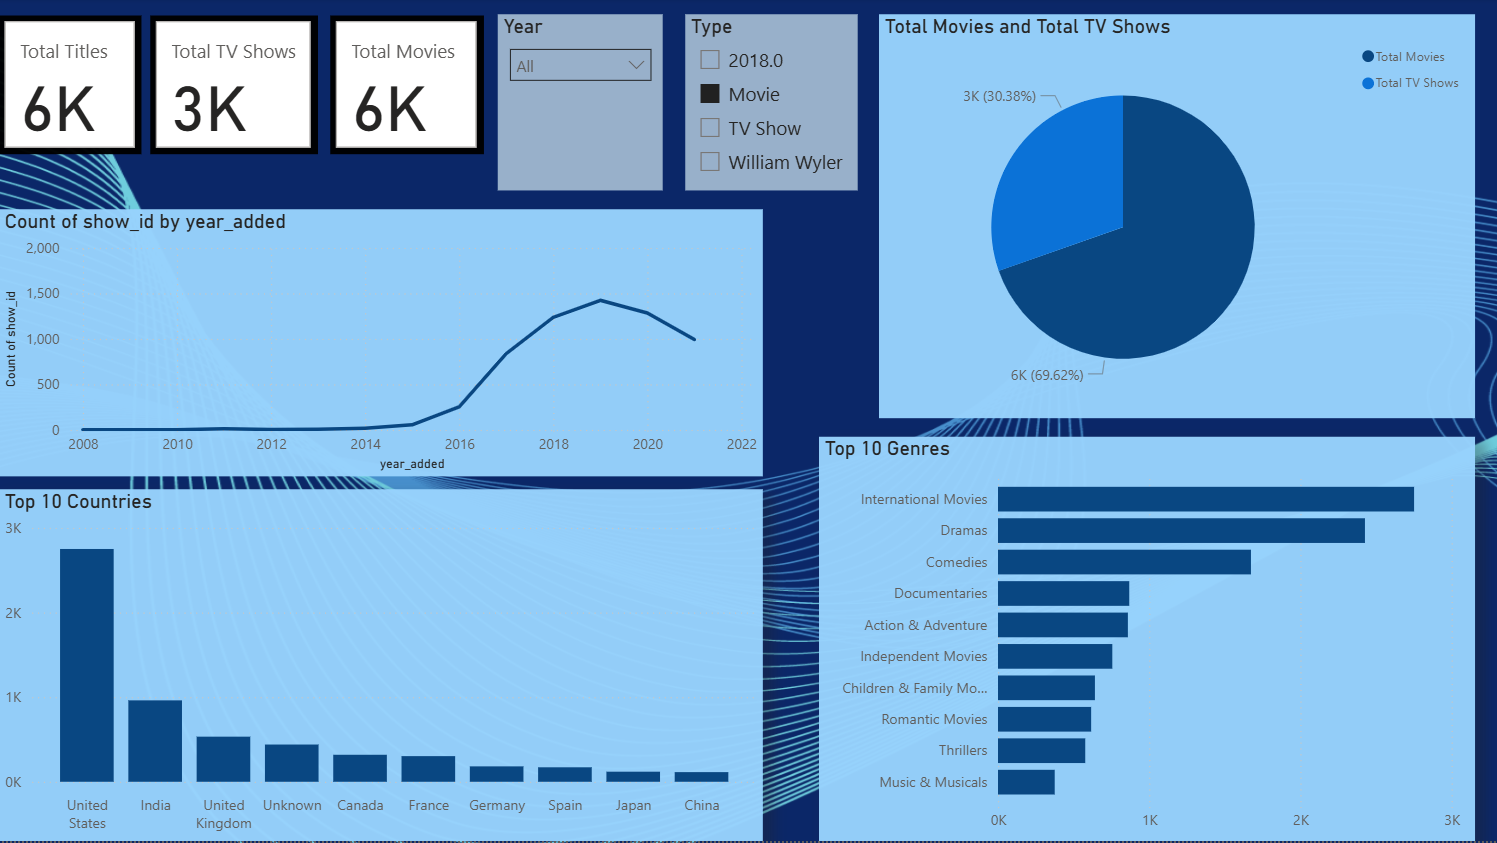

This screenshot's page, from the dashboard's own definition file:
{"tool":"powerbi","page":{"name":"Page 1","canvas":[1280,720],"ordinal":0},"visuals":[{"type":"cardVisual","fields":{"Data":["netflix_cleaned.Total Titles"]},"box":[0,14.9,121.6,118.4],"z":0},{"type":"cardVisual","fields":{"Data":["netflix_cleaned.Total TV Shows"]},"box":[129.1,14.9,143,118.4],"z":1000},{"type":"cardVisual","fields":{"Data":["netflix_cleaned.Total Movies"]},"box":[282.5,15.3,130.8,118.3],"z":2000},{"type":"pieChart","fields":{"Y":["netflix_cleaned.Total Movies","netflix_cleaned.Total TV Shows"]},"box":[751.2,13.9,509,344.6],"z":3000},{"type":"lineChart","fields":{"Category":["netflix_cleaned.year_added"],"Y":["CountNonNull(netflix_cleaned.show_id)"]},"box":[0,180.3,651.9,228.3],"z":4000},{"type":"clusteredBarChart","title":"Top 10 Genres","fields":{"Y":["CountNonNull(netflix_genre_exploded.show_id)"],"Category":["netflix_genre_exploded.genre"]},"box":[699.9,374.5,560.2,345.7],"z":5000},{"type":"clusteredColumnChart","title":"Top 10 Countries","fields":{"Category":["netflix_country_exploded.country_single"],"Y":["CountNonNull(netflix_country_exploded.show_id)"]},"box":[0,419.3,651.9,300.9],"z":6000},{"type":"slicer","title":"Year","fields":{"Values":["netflix_cleaned.year_added"]},"box":[425.7,13.9,140.8,150.4],"z":7000},{"type":"slicer","title":"Type","fields":{"Values":["netflix_cleaned.type"]},"box":[585.8,13.9,147.2,150.4],"z":8000}]}

Visuals, with their boxes in screenshot pixels (x1, y1, x2, y2), scaled from the page's 1280x720 canvas onto the 1497x843 screenshot:
cardVisual - netflix_cleaned.Total Titles: <bbox>0, 17, 142, 156</bbox>
cardVisual - netflix_cleaned.Total TV Shows: <bbox>151, 17, 318, 156</bbox>
cardVisual - netflix_cleaned.Total Movies: <bbox>330, 18, 483, 156</bbox>
pieChart - netflix_cleaned.Total Movies x netflix_cleaned.Total TV Shows: <bbox>879, 16, 1474, 420</bbox>
lineChart - netflix_cleaned.year_added x CountNonNull(netflix_cleaned.show_id): <bbox>0, 211, 762, 478</bbox>
"Top 10 Genres" clusteredBarChart: <bbox>819, 438, 1474, 842</bbox>
"Top 10 Countries" clusteredColumnChart: <bbox>0, 491, 762, 842</bbox>
"Year" slicer: <bbox>498, 16, 663, 192</bbox>
"Type" slicer: <bbox>685, 16, 857, 192</bbox>
